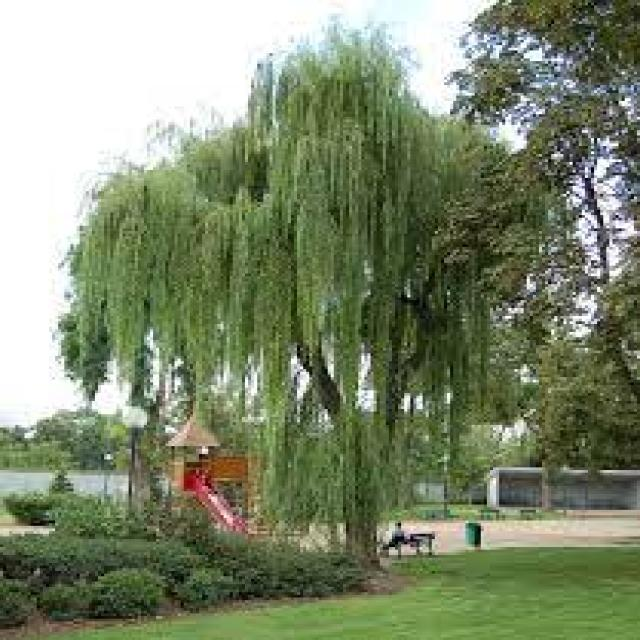cauce: (50, 29, 513, 558)
